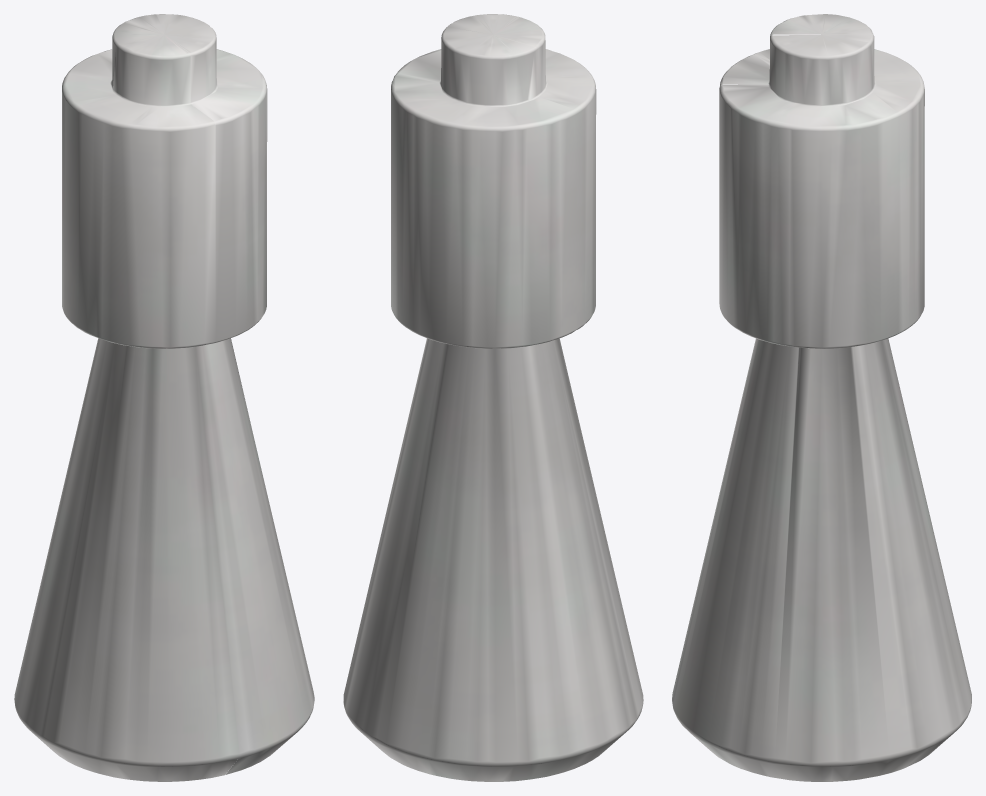
File: 04_kral_bila.glb
The picture shows the model from 3 angles, left to right: view 1: azimuth 30°, elevation 25°; view 2: azimuth 150°, elevation 25°; view 3: azimuth 270°, elevation 25°; orthographic projection.
Parts seen in each view (by area): view 1: 04_kral_bila; view 2: 04_kral_bila; view 3: 04_kral_bila.
Part boxes in pixels (x1,y1,x2,y2): 04_kral_bila: [14, 14, 314, 781]; 04_kral_bila: [343, 14, 643, 781]; 04_kral_bila: [672, 14, 971, 781].
Size of the model in its own units: 0.0333 by 0.0853 by 0.0333.
1 material, 1 textured.
